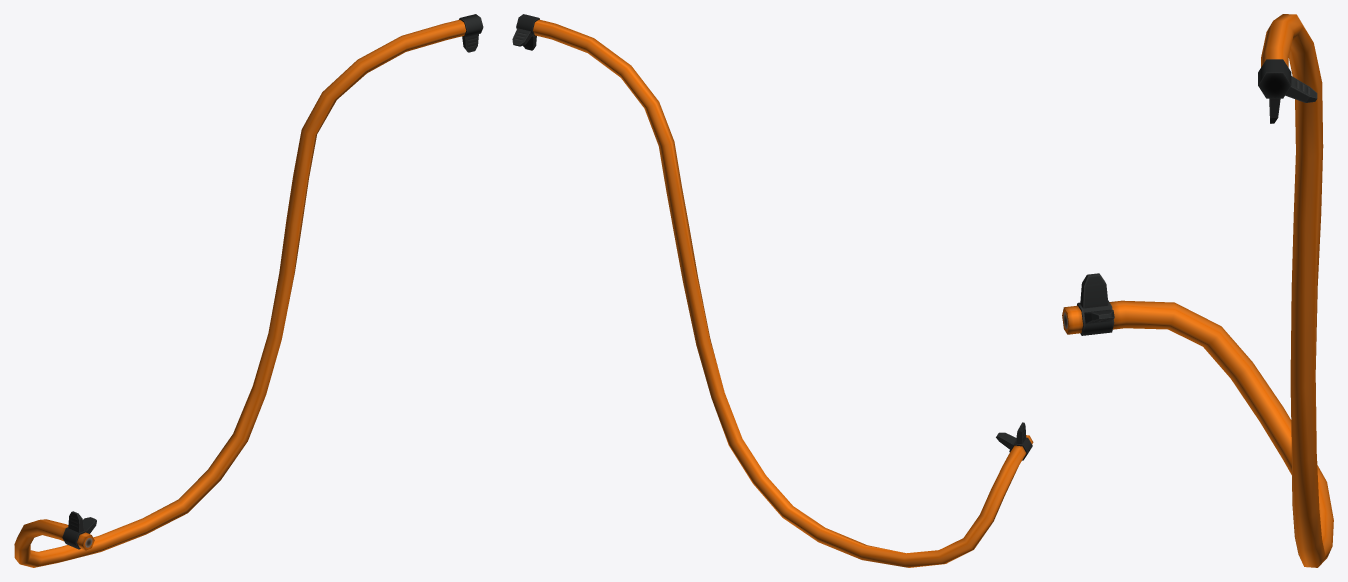
Rendered from jsf_GasRange_02a.fbx.
The picture shows the model from 3 angles, left to right: view 1: azimuth 30°, elevation 25°; view 2: azimuth 150°, elevation 25°; view 3: azimuth 270°, elevation 25°; orthographic projection. The views are drawn at different scales.
Parts seen in each view (by area): view 1: GasHose; view 2: GasHose; view 3: GasHose.
Boxes of the visible parts, x1,y1,x2,y2 form: GasHose: [14, 14, 483, 567]; GasHose: [512, 14, 1033, 567]; GasHose: [1062, 14, 1333, 567].
Bounding box in the file's own units: 57.98 × 53.22 × 17.3.
